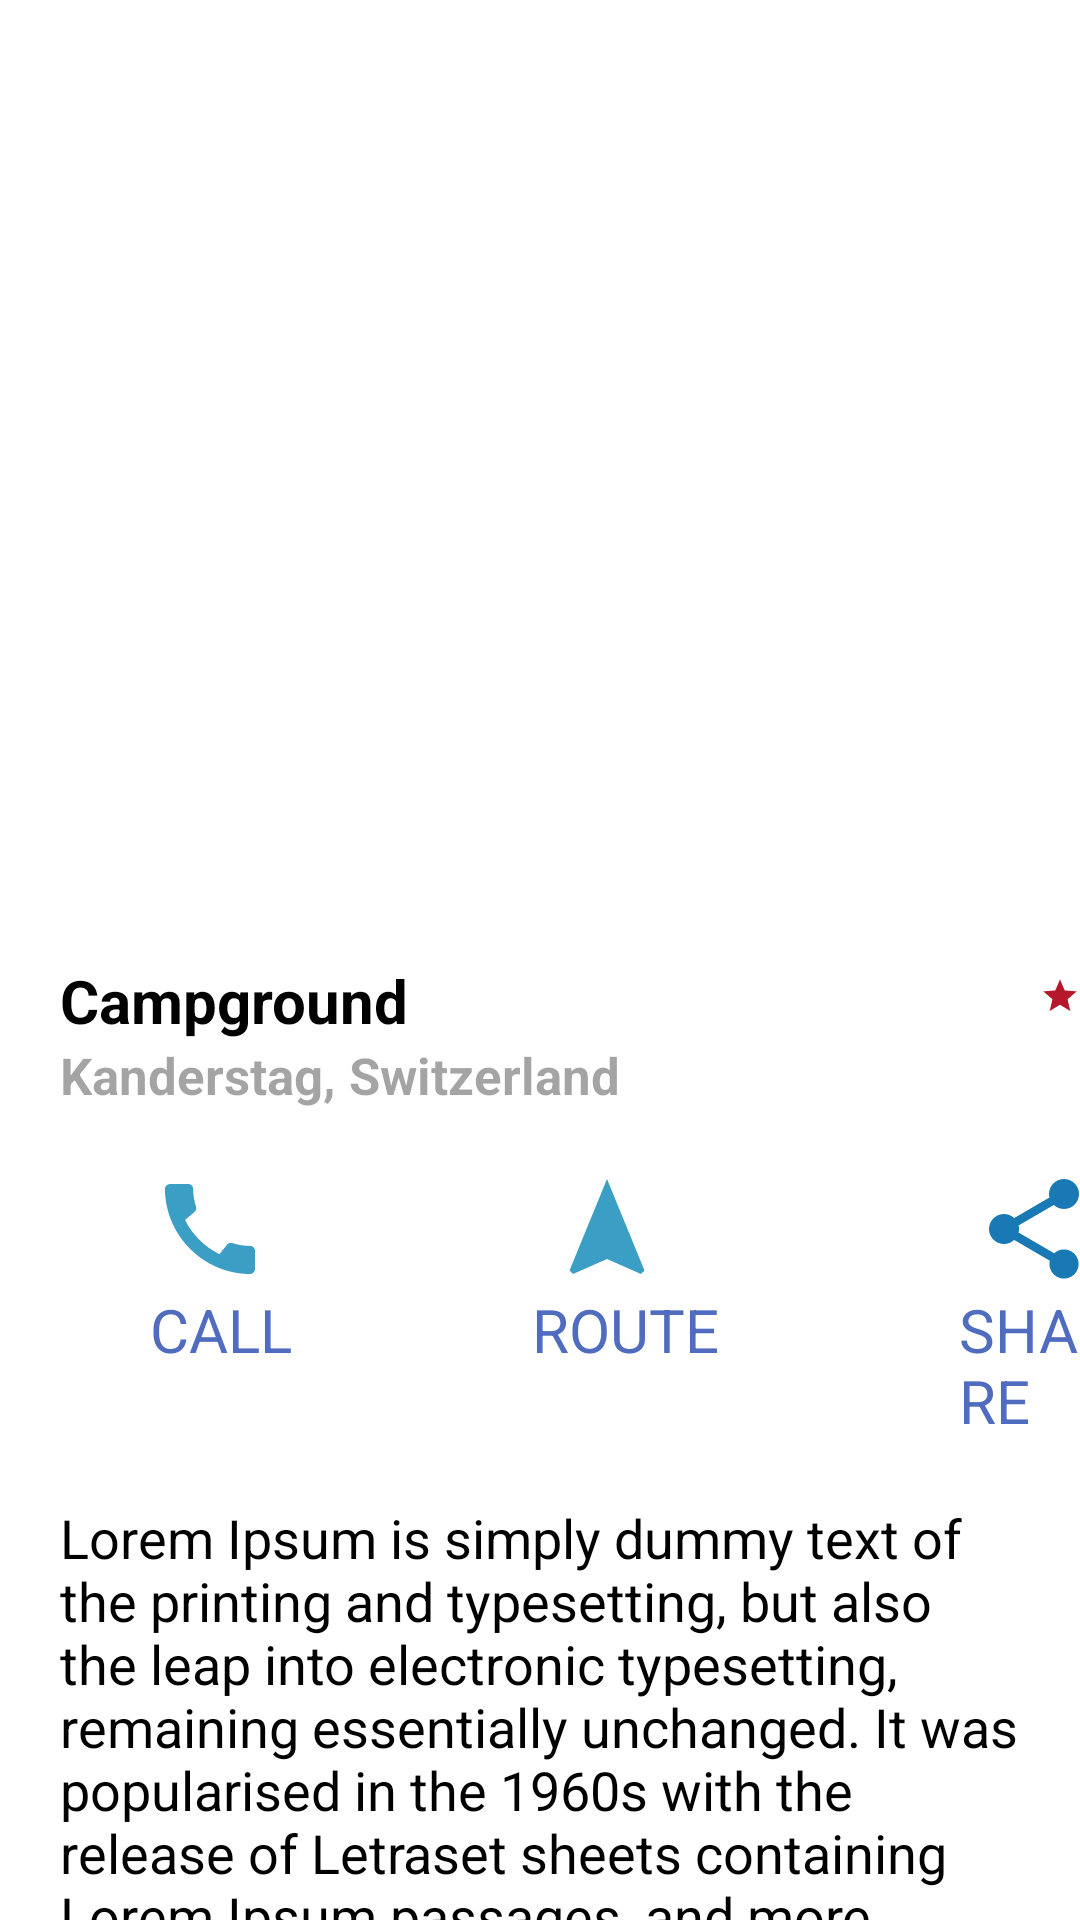

Icon click points for this 1080x1920 phone screenshot, format point (x, y):
navigation: point (607, 1226)
star: point (1060, 995)
